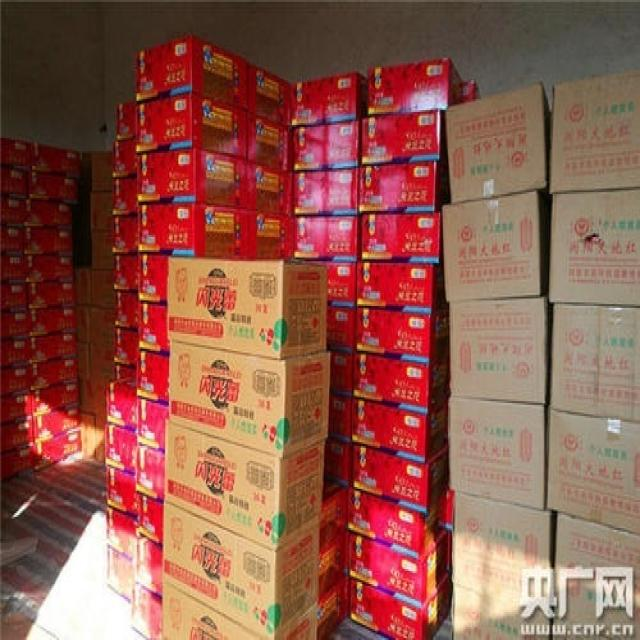box: (163, 502, 319, 640), (165, 422, 325, 550), (169, 341, 330, 459), (166, 259, 326, 360), (451, 491, 554, 616), (447, 82, 550, 203), (547, 407, 640, 537), (443, 190, 549, 302), (449, 293, 553, 403), (553, 511, 640, 640), (550, 69, 640, 192), (449, 399, 547, 509), (549, 188, 640, 306), (552, 304, 640, 424), (134, 34, 247, 110), (348, 528, 452, 610), (347, 487, 447, 560), (134, 95, 247, 159), (349, 571, 452, 640), (351, 444, 448, 515), (137, 149, 248, 209), (351, 396, 449, 463), (161, 584, 274, 640), (137, 203, 248, 259), (353, 353, 449, 414), (367, 58, 465, 114), (356, 306, 449, 364), (451, 588, 552, 640), (356, 261, 448, 313), (358, 162, 451, 213), (361, 110, 448, 164), (361, 211, 443, 263), (291, 71, 367, 127), (291, 119, 362, 172), (293, 168, 360, 216), (293, 216, 362, 261), (294, 259, 357, 308), (247, 62, 291, 127), (247, 114, 293, 172), (247, 162, 293, 216), (32, 429, 82, 474), (248, 211, 294, 259), (316, 577, 349, 640), (319, 478, 347, 550), (319, 532, 348, 601), (552, 618, 640, 640), (32, 405, 81, 444), (133, 534, 163, 597), (31, 142, 81, 179), (136, 397, 169, 453), (136, 351, 169, 405), (31, 383, 81, 418), (136, 444, 165, 504), (106, 466, 137, 521), (31, 356, 78, 392), (137, 304, 170, 355), (131, 584, 161, 640), (29, 172, 78, 205), (105, 424, 136, 476), (108, 375, 136, 431), (106, 508, 136, 560), (136, 493, 163, 549), (274, 605, 317, 640), (138, 254, 168, 304), (29, 332, 77, 362), (326, 306, 356, 353), (28, 308, 77, 336), (324, 438, 352, 485), (108, 549, 132, 603), (26, 200, 72, 228), (26, 228, 72, 256), (26, 256, 73, 282), (27, 284, 76, 308), (0, 418, 33, 453), (0, 446, 33, 481), (329, 394, 352, 444), (0, 392, 31, 427), (111, 138, 137, 179), (0, 136, 31, 170), (111, 216, 137, 256), (330, 351, 353, 396), (113, 325, 137, 368), (0, 364, 32, 396), (77, 381, 106, 416), (111, 177, 137, 216), (113, 252, 137, 293), (114, 289, 137, 330), (91, 269, 115, 308), (0, 338, 31, 368), (90, 190, 113, 230), (0, 310, 29, 341), (91, 308, 114, 347), (92, 151, 113, 190), (92, 230, 113, 269), (0, 170, 28, 198), (0, 196, 26, 226), (115, 101, 134, 142), (79, 412, 96, 457), (0, 284, 27, 312), (0, 256, 26, 284), (91, 347, 111, 381), (0, 228, 26, 254), (74, 267, 91, 304), (76, 304, 91, 345), (77, 341, 92, 381), (111, 364, 136, 383), (95, 416, 105, 461), (465, 80, 481, 103)
